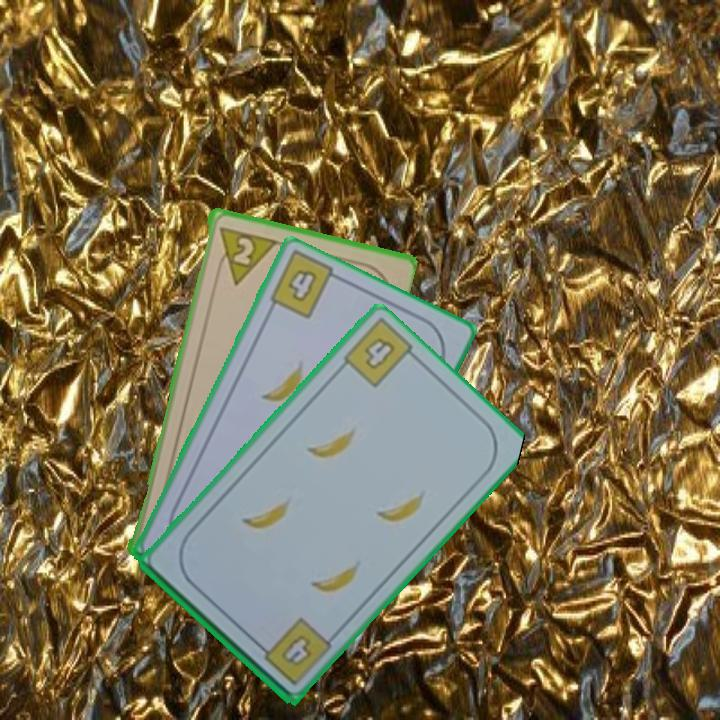2p: (213, 222, 277, 287)
4b: (252, 614, 331, 688), (360, 333, 399, 373), (284, 265, 320, 305)
